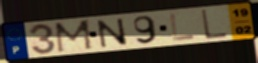3: (27, 22, 57, 56)
9: (133, 15, 158, 45)
L: (200, 8, 229, 41), (168, 13, 197, 43)
M: (53, 18, 96, 55)
N: (95, 17, 131, 49)
